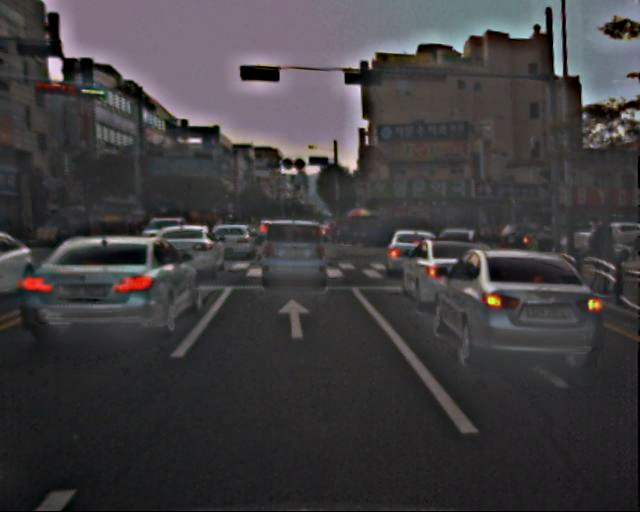person: (580, 218, 611, 294)
